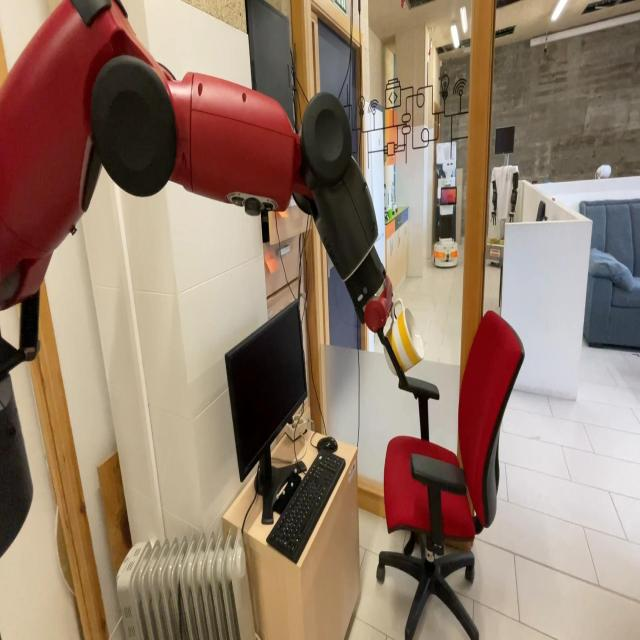cup: (381, 299, 425, 375)
